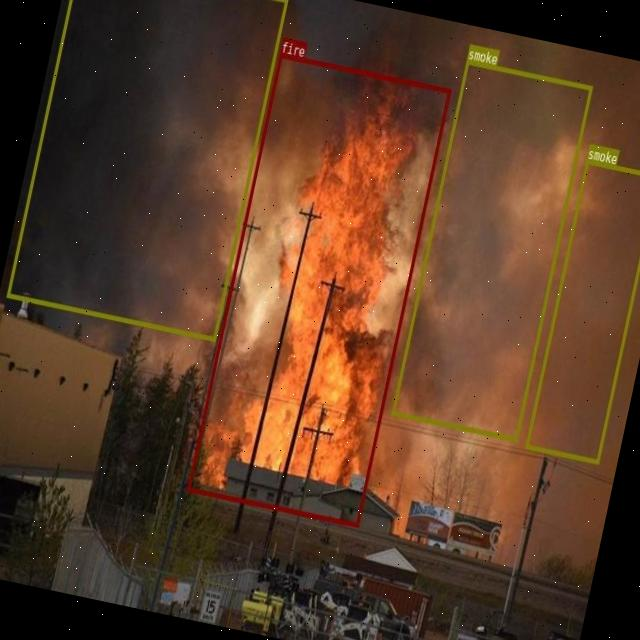fire: (187, 53, 450, 526)
smoke: (6, 0, 287, 340), (391, 58, 592, 440), (525, 159, 640, 463)
